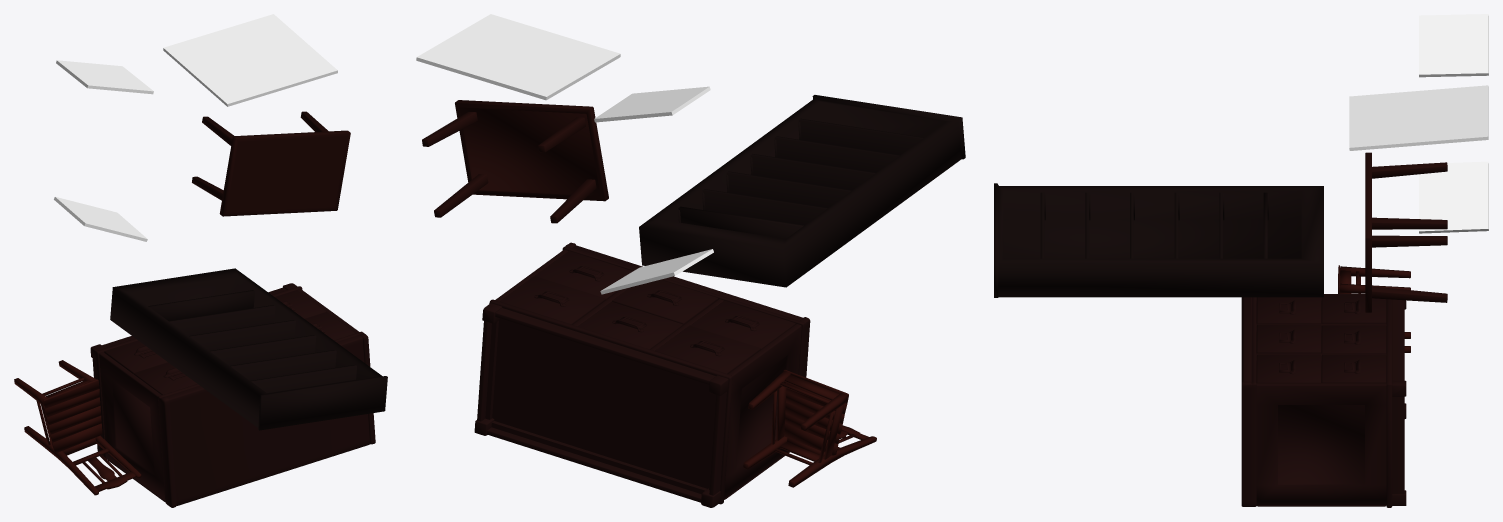
3 views of the same model, side by side, from view 1: azimuth 30°, elevation 25°; view 2: azimuth 150°, elevation 25°; view 3: azimuth 270°, elevation 25° (orthographic). The views are drawn at different scales.
Visible parts, largest first — view 1: diffuse_shelf_03, diffuse_cabinet_01, diffuse_table_02, glass_table_01, diffuse_chair_04, glass_partition_03, glass_partition_02; view 2: diffuse_cabinet_01, diffuse_shelf_03, diffuse_table_02, glass_table_01, diffuse_chair_04, glass_partition_03, glass_partition_02; view 3: diffuse_shelf_03, diffuse_cabinet_01, glass_table_01, diffuse_table_02, glass_partition_02, glass_partition_03, diffuse_chair_04.
Part boxes in pixels (bbox=[...]): diffuse_shelf_03: bbox=[110, 268, 387, 430]; diffuse_cabinet_01: bbox=[90, 283, 375, 507]; diffuse_table_02: bbox=[192, 111, 350, 216]; glass_table_01: bbox=[163, 14, 337, 106]; diffuse_chair_04: bbox=[14, 360, 141, 495]; glass_partition_03: bbox=[56, 60, 153, 94]; glass_partition_02: bbox=[54, 196, 147, 241]; diffuse_cabinet_01: bbox=[474, 242, 810, 507]; diffuse_shelf_03: bbox=[639, 95, 965, 287]; diffuse_table_02: bbox=[422, 100, 608, 223]; glass_table_01: bbox=[416, 14, 620, 100]; diffuse_chair_04: bbox=[743, 369, 876, 487]; glass_partition_03: bbox=[594, 86, 710, 122]; glass_partition_02: bbox=[600, 249, 713, 294]; diffuse_shelf_03: bbox=[994, 183, 1323, 297]; diffuse_cabinet_01: bbox=[1241, 294, 1406, 507]; glass_table_01: bbox=[1349, 85, 1488, 150]; diffuse_table_02: bbox=[1365, 152, 1447, 312]; glass_partition_02: bbox=[1419, 161, 1488, 233]; glass_partition_03: bbox=[1419, 14, 1488, 77]; diffuse_chair_04: bbox=[1338, 265, 1410, 352].
Size of the model in its own units: 231 by 253 by 284.
